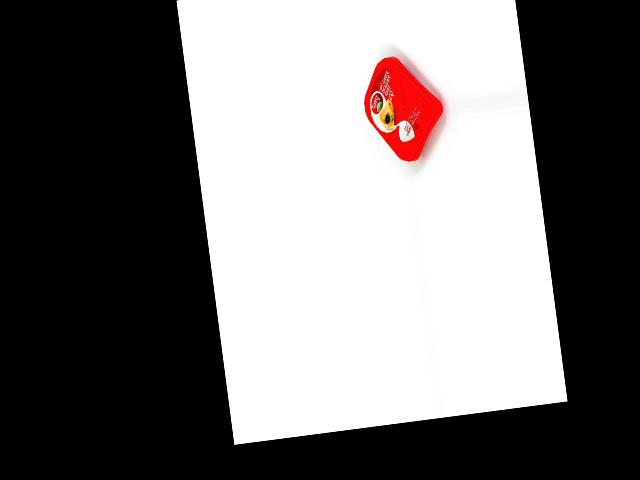cheese: (358, 50, 449, 167)
